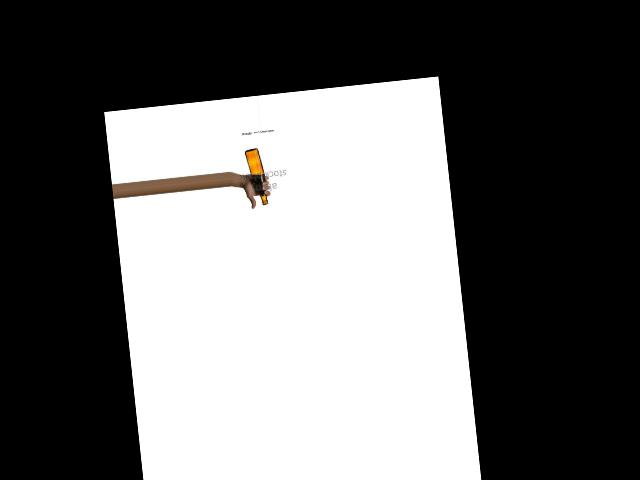beer: (244, 148, 268, 206)
